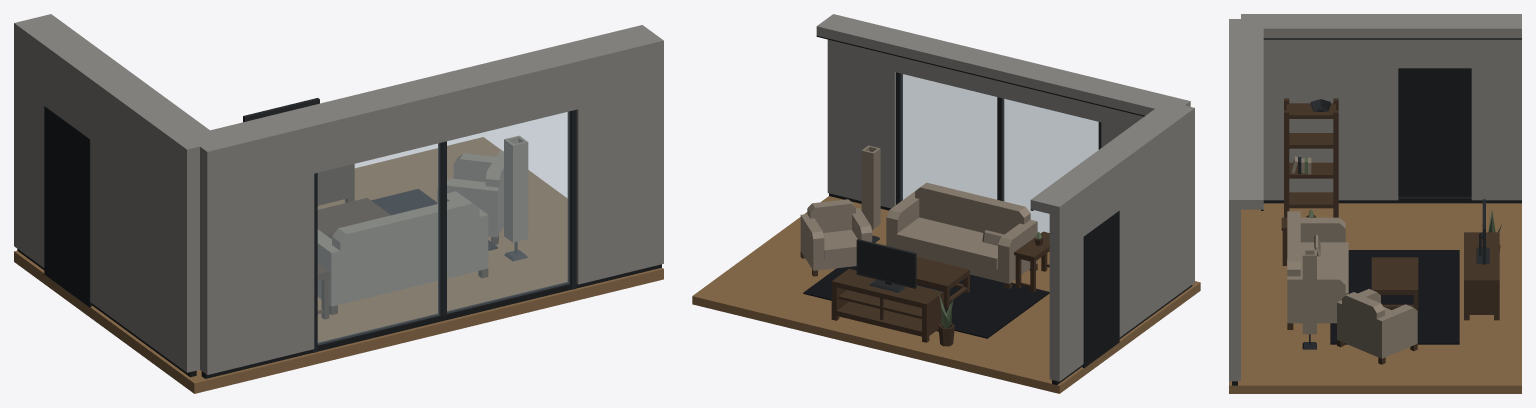
The model's file is living-room.fbx.
The picture shows the model from 3 angles, left to right: view 1: azimuth 30°, elevation 25°; view 2: azimuth 150°, elevation 25°; view 3: azimuth 270°, elevation 25°; orthographic projection. The views are drawn at different scales.
Visible parts, largest first — view 1: R_glass, R_pierA, Floor, L_pierA, R_pierB, Soffit_R, S2_Sofa, R_head, Soffit_L, L_doorvoid, L_pierB, R_plinth (+10 smaller); view 2: Floor, R_glass, L_pierA, S2_Sofa, R_pierB, Soffit_R, L_pierB, Soffit_L, S4_TVUnit, L_doorvoid, S2_Rug, S4_Chair (+11 smaller); view 3: Floor, L_pierA, L_doorvoid, L_pierB, Soffit_L, Soffit_R, S2_Rug, S2_Sofa, S4_Chair, S3_Bookcase, S4_TVUnit, L_head (+8 smaller).
Part boxes in pixels (x1,y1,x2,y2): R_glass: (317,111,569,344); R_pierA: (200,138,314,374); Floor: (14,137,663,393); L_pierA: (90,91,199,372); R_pierB: (576,52,663,284); Soffit_R: (200,25,663,163); S2_Sofa: (317,191,488,314); R_head: (314,73,578,173); Soffit_L: (14,14,223,161); L_doorvoid: (44,106,91,307); L_pierB: (14,35,44,267); R_plinth: (201,264,661,378); Floor: (692,196,1200,393); R_glass: (901,74,1098,232); L_pierA: (1119,117,1194,337); S2_Sofa: (886,182,1037,289); R_pierB: (827,39,895,208); Soffit_R: (816,14,1190,115); L_pierB: (1049,199,1083,381); Soffit_L: (1030,101,1194,216); S4_TVUnit: (831,268,943,342); L_doorvoid: (1082,210,1119,367); S2_Rug: (803,266,1049,338); S4_Chair: (800,199,872,276); Floor: (1229,203,1521,393); L_pierA: (1263,39,1398,200); L_doorvoid: (1398,68,1471,196); L_pierB: (1471,39,1521,200); Soffit_L: (1241,14,1521,38); Soffit_R: (1229,19,1263,209); S2_Rug: (1330,250,1459,344); S2_Sofa: (1287,211,1348,329); S4_Chair: (1337,289,1417,364); S3_Bookcase: (1284,98,1338,217); S4_TVUnit: (1464,232,1499,320); L_head: (1398,39,1471,68).
Bounding box in the file's own units: 6.59 × 3.2 × 4.38.
